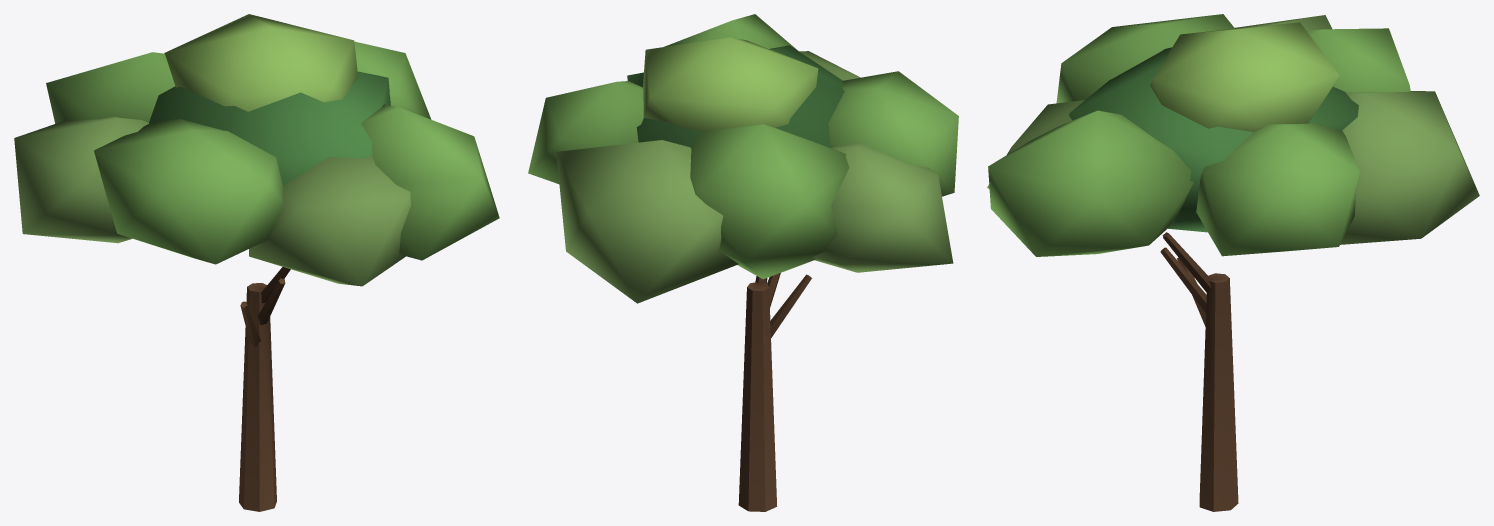
File: arbol-paraiso-F-6D7L5Z.glb
The picture shows the model from 3 angles, left to right: view 1: azimuth 30°, elevation 25°; view 2: azimuth 150°, elevation 25°; view 3: azimuth 270°, elevation 25°; orthographic projection. The views are drawn at different scales.
Visible parts, largest first — view 1: copa.004, copa.005, copa.008, copa.006, copa.007, copa.003, cilindro, copa.002, copa; view 2: copa.001, copa.002, copa.008, copa.003, copa.004, cilindro, copa, copa.007, copa.006, rama, copa.005; view 3: copa.006, copa, copa.001, copa.008, copa.007, cilindro, copa.004, copa.002, copa.005, rama.001, rama.002, copa.003.
Boxes of the visible parts, x1=… form: copa.004: x1=94, y1=119, x2=283, y2=264; copa.005: x1=249, y1=156, x2=410, y2=286; copa.008: x1=165, y1=14, x2=358, y2=111; copa.006: x1=361, y1=104, x2=499, y2=260; copa.007: x1=149, y1=71, x2=390, y2=185; copa.003: x1=14, y1=117, x2=148, y2=243; cilindro: x1=239, y1=283, x2=276, y2=511; copa.002: x1=46, y1=52, x2=175, y2=123; copa: x1=354, y1=41, x2=431, y2=119; copa.001: x1=556, y1=140, x2=738, y2=303; copa.002: x1=690, y1=124, x2=849, y2=279; copa.008: x1=642, y1=37, x2=818, y2=131; copa.003: x1=813, y1=142, x2=953, y2=272; copa.004: x1=828, y1=71, x2=958, y2=196; cilindro: x1=738, y1=282, x2=776, y2=511; copa: x1=528, y1=81, x2=643, y2=183; copa.007: x1=627, y1=45, x2=844, y2=148; copa.006: x1=664, y1=14, x2=797, y2=50; rama: x1=770, y1=274, x2=811, y2=337; copa.005: x1=799, y1=51, x2=860, y2=80; copa.006: x1=988, y1=110, x2=1193, y2=256; copa: x1=1196, y1=123, x2=1359, y2=256; copa.001: x1=1340, y1=91, x2=1479, y2=244; copa.008: x1=1150, y1=22, x2=1339, y2=131; copa.007: x1=1069, y1=47, x2=1358, y2=232; cilindro: x1=1199, y1=273, x2=1238, y2=511; copa.004: x1=1056, y1=14, x2=1234, y2=103; copa.002: x1=1307, y1=28, x2=1410, y2=92; copa.005: x1=987, y1=100, x2=1084, y2=189; rama.001: x1=1160, y1=247, x2=1206, y2=313; rama.002: x1=1162, y1=232, x2=1211, y2=292; copa.003: x1=1235, y1=15, x2=1332, y2=30.
Size of the model in its own units: 5.73 by 6.44 by 5.94.
